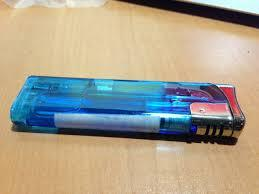lighter: (9, 72, 247, 148)
